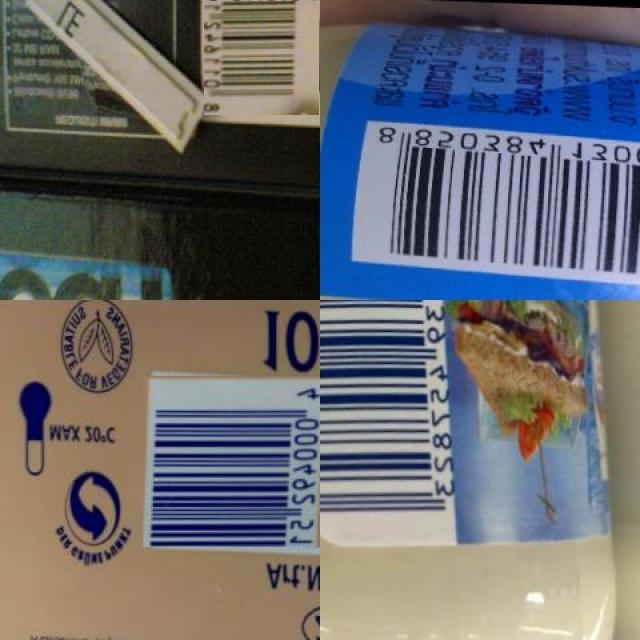Barcode: (366, 118, 640, 282), (320, 300, 453, 557), (146, 373, 323, 550), (204, 0, 319, 115)
